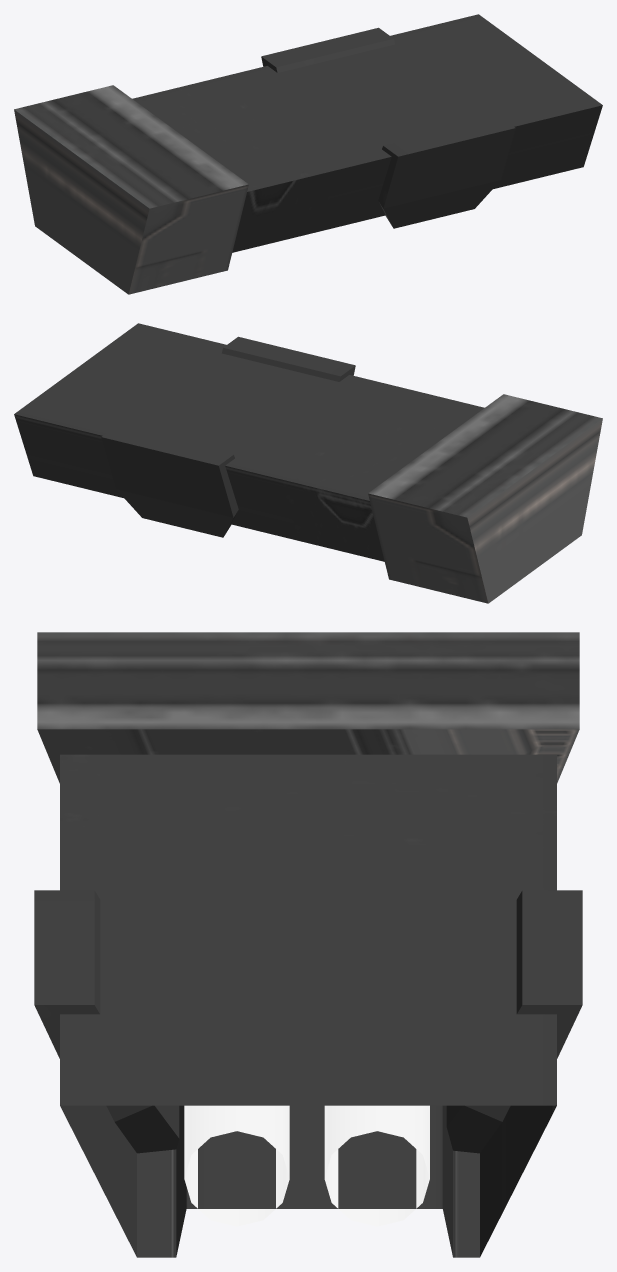
File: Prop_Light_Small.gltf
3 renders of one model, top to bottom at view 1: azimuth 30°, elevation 25°; view 2: azimuth 150°, elevation 25°; view 3: azimuth 270°, elevation 25°, orthographic. The views are drawn at different scales.
Parts seen in each view (by area): view 1: Prop_Light_Small; view 2: Prop_Light_Small; view 3: Prop_Light_Small.
Boxes of the visible parts, bbox=[...] form: Prop_Light_Small: bbox=[14, 14, 602, 294]; Prop_Light_Small: bbox=[14, 323, 602, 603]; Prop_Light_Small: bbox=[34, 632, 582, 1257].
Size of the model in its own units: 0.8609 by 0.1819 by 0.4453.
2 materials, 1 textured.
